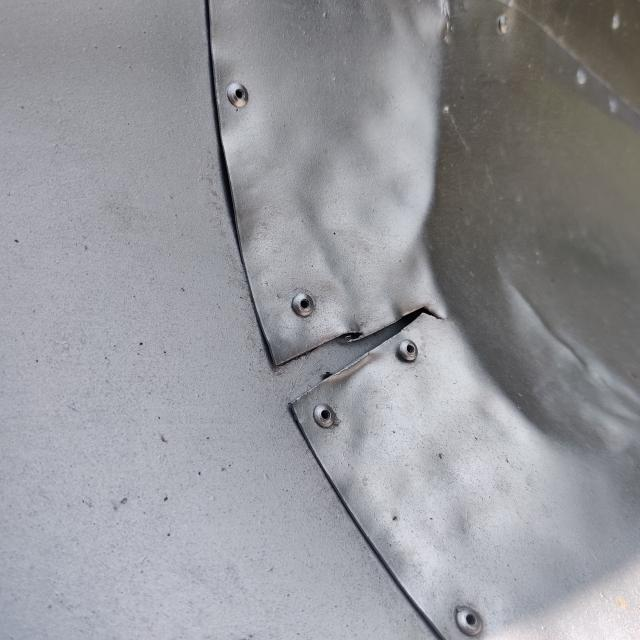crack: (260, 290, 460, 420)
dent: (390, 0, 640, 476)
